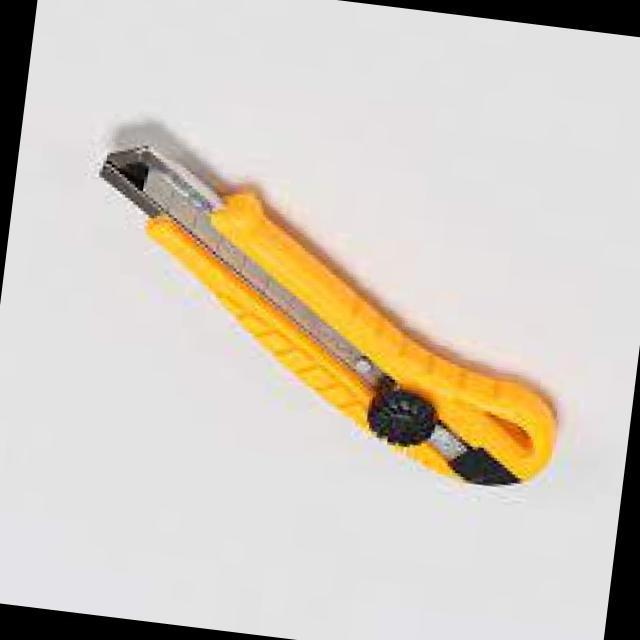cutter: (52, 106, 600, 510)
